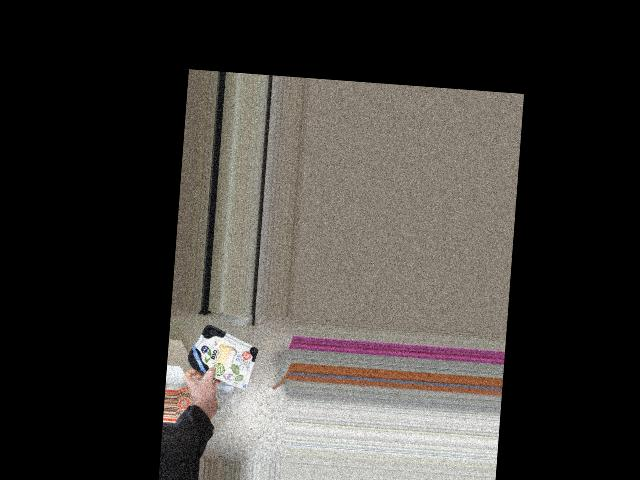cheese: (184, 328, 259, 380)
